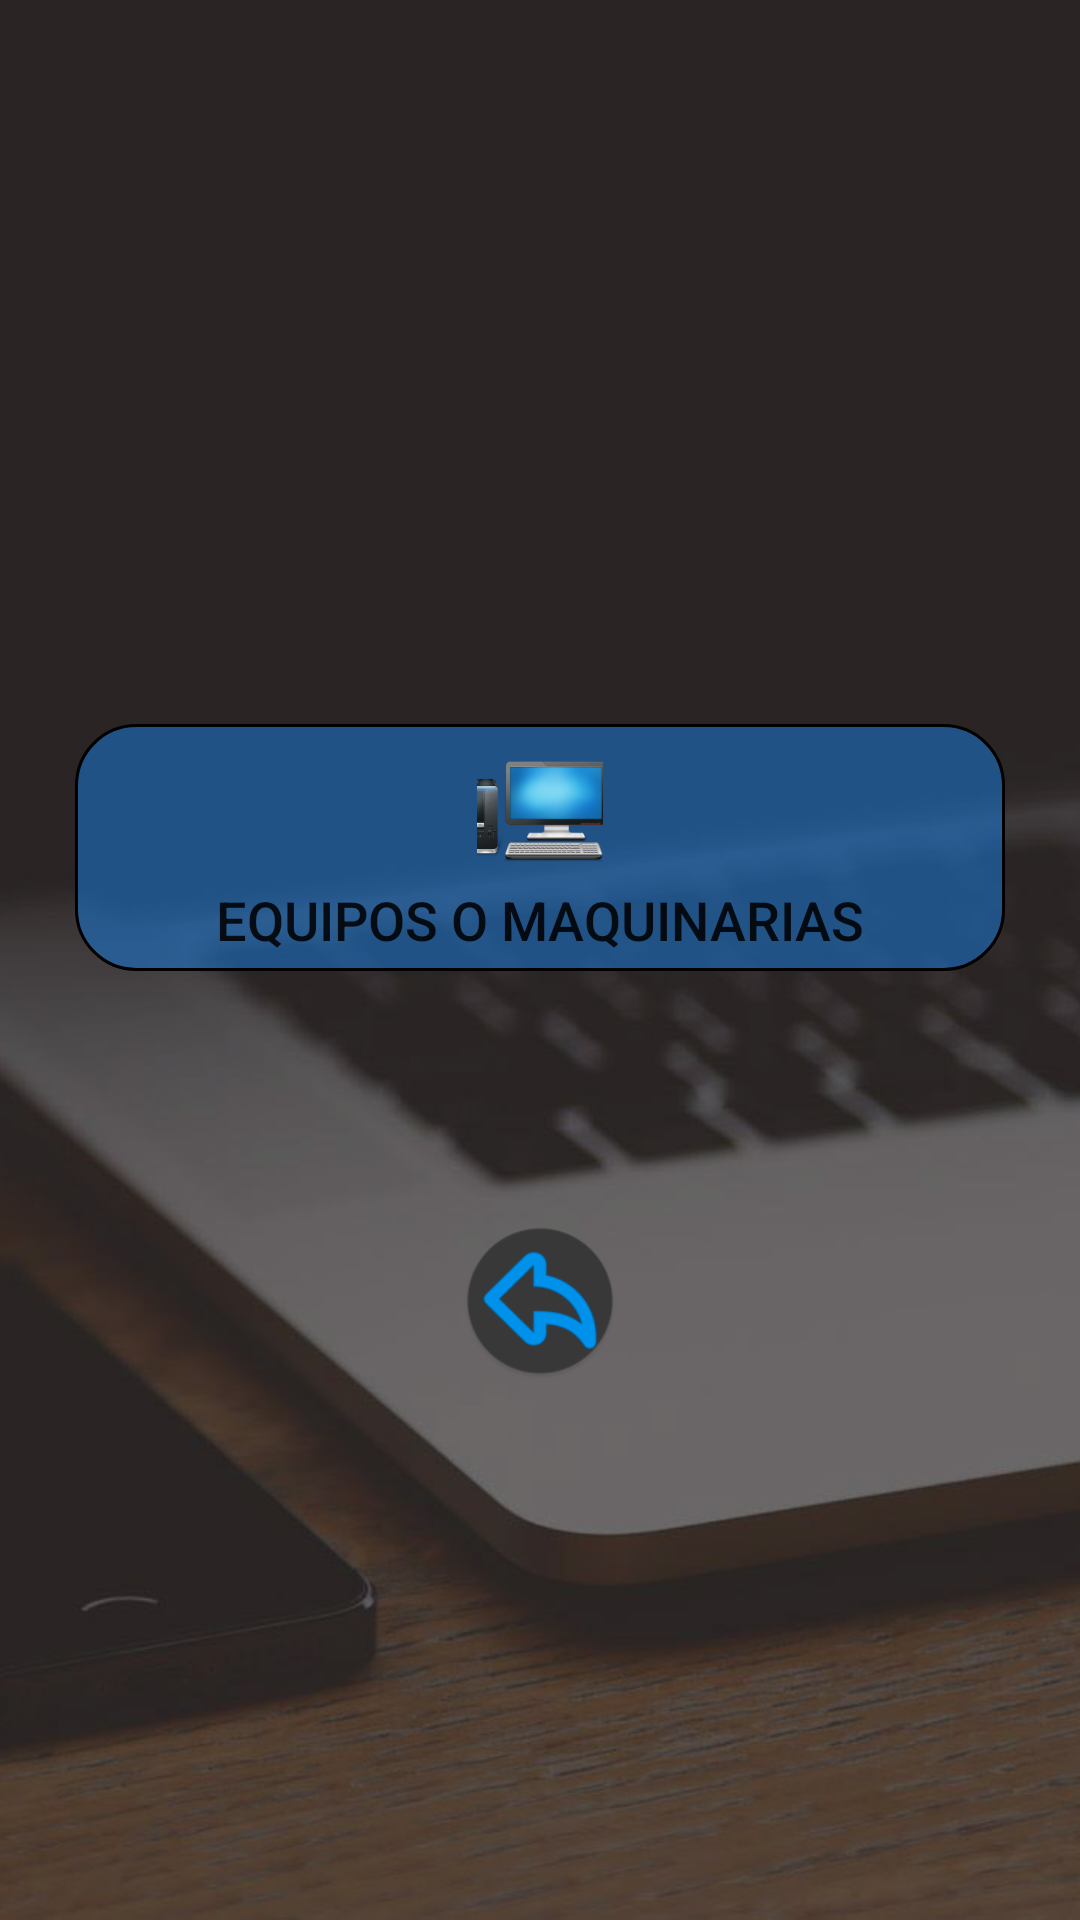

Named icons in this screenshot (1080w x 1920h) and their centers, (x,y):
go back: (540,1301)
